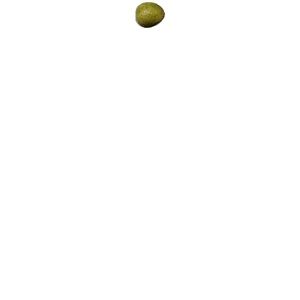goiaba: (132, 1, 167, 29)
